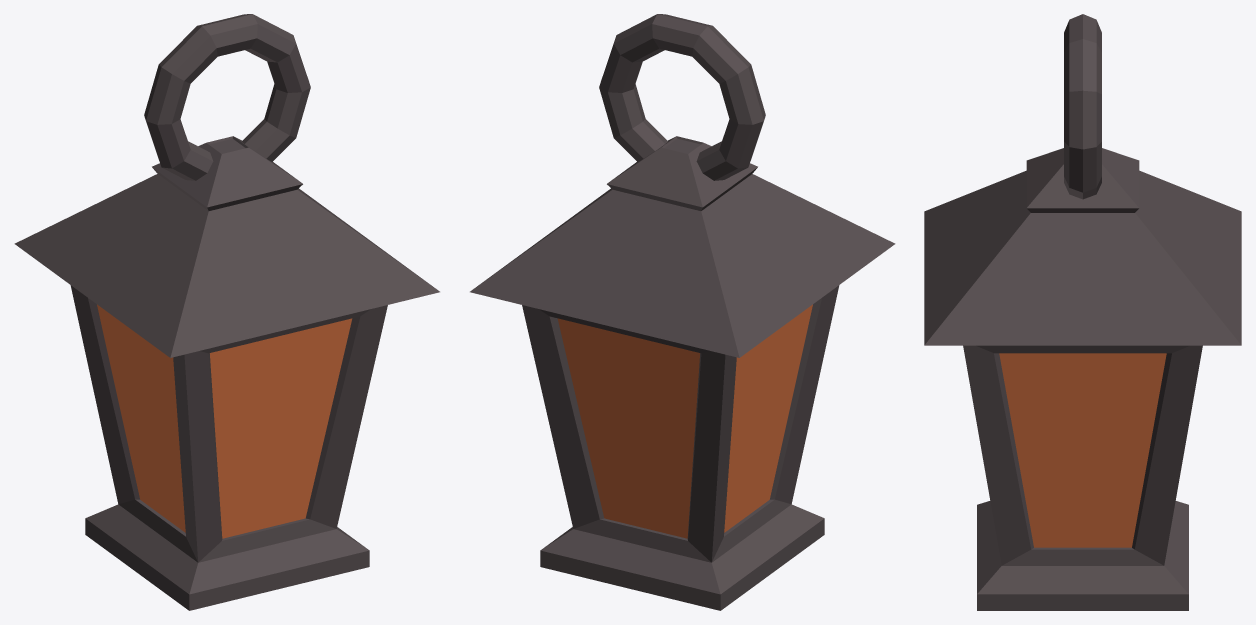
File: Lamp.fbx
The picture shows the model from 3 angles, left to right: view 1: azimuth 30°, elevation 25°; view 2: azimuth 150°, elevation 25°; view 3: azimuth 270°, elevation 25°; orthographic projection.
Visible parts, largest first — view 1: Cube.007, Torus; view 2: Cube.007, Torus; view 3: Cube.007, Torus.
Part boxes in pixels (x1,y1,x2,y2): Cube.007: (14,136,439,610); Torus: (144,14,310,180); Cube.007: (470,136,895,610); Torus: (599,14,765,180); Cube.007: (924,148,1241,610); Torus: (1064,14,1101,199).
Size of the model in its own units: 3 by 5.63 by 3.
